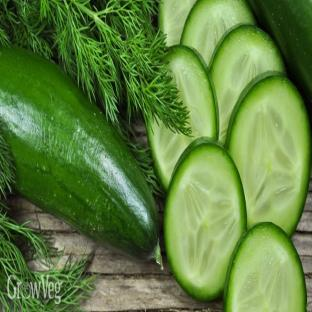Cucumber: (0, 47, 160, 260), (227, 74, 311, 235), (164, 139, 246, 300), (148, 46, 218, 190), (211, 25, 285, 142), (224, 223, 307, 311), (181, 0, 255, 65)
